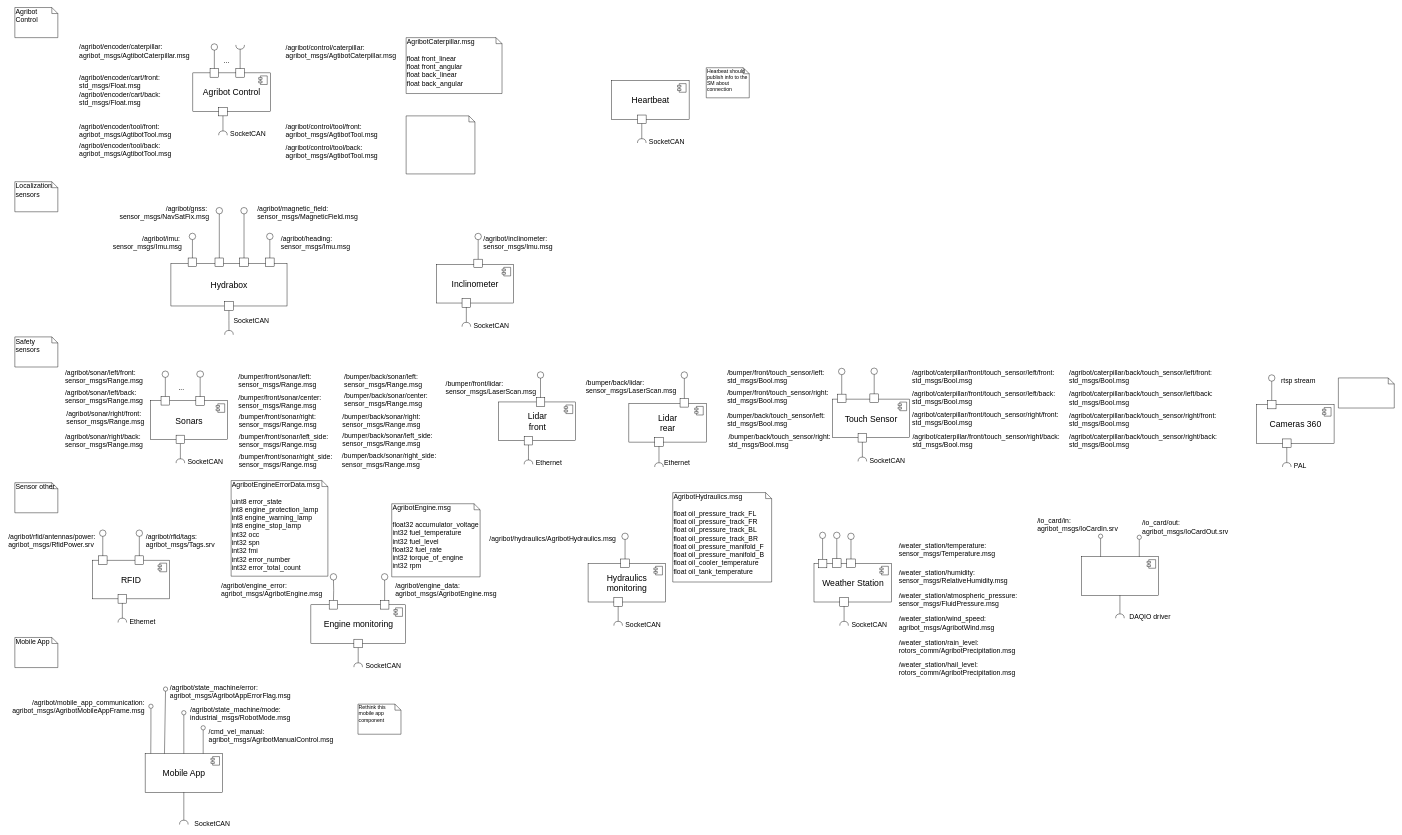
Some shapes in this 1402 by 835 pixel diagram are drawn without their labels. The centre of each missing label's shape, as x and y in pixels:
"AgribotTool.msg float tpl_height float tpl_angle float pto_rpm" goes at (x=440, y=144).
"IO Card" goes at (x=1120, y=575).
"without ROS" goes at (x=1366, y=392).
